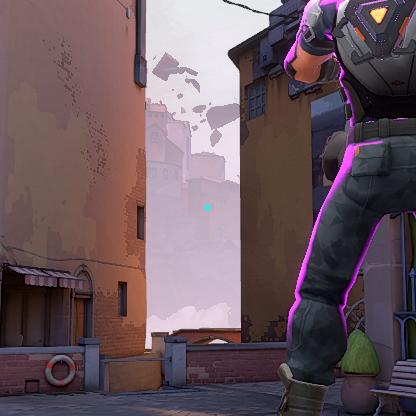enemyBody: (347, 5, 416, 123)
